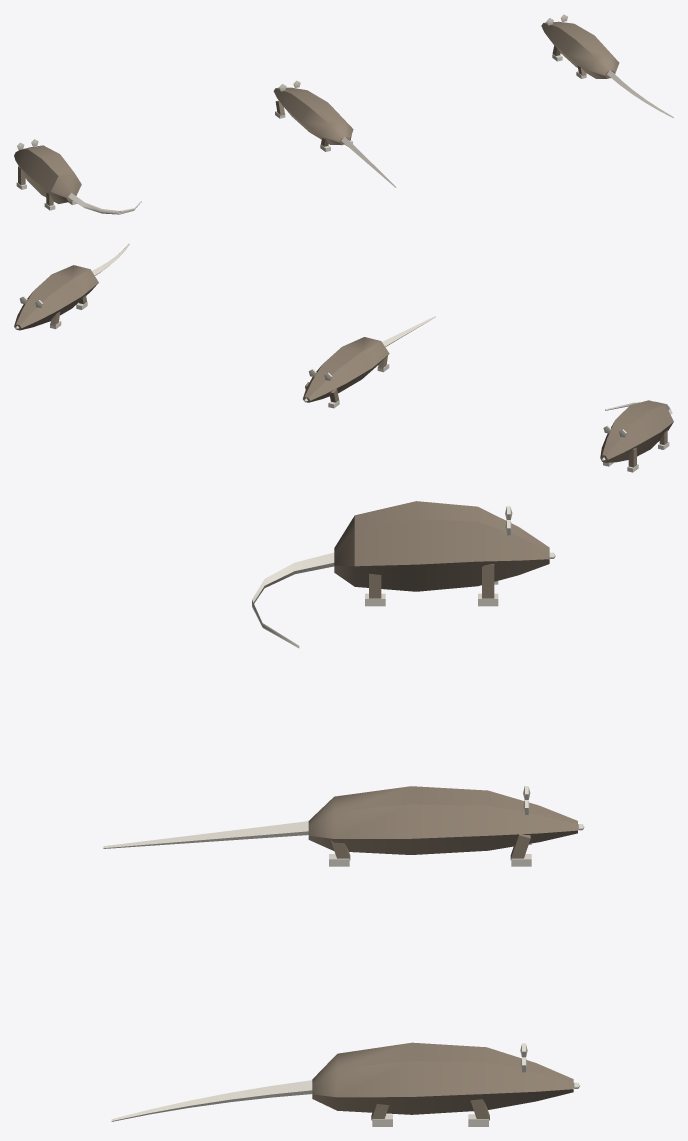
The model's file is rat.glb.
3 views of the same model, one above another, from view 1: azimuth 30°, elevation 25°; view 2: azimuth 150°, elevation 25°; view 3: azimuth 270°, elevation 25° (orthographic). The views are drawn at different scales.
Parts seen in each view (by area): view 1: sit, run_a, run_b; view 2: run_a, sit, run_b; view 3: sit, run_b, run_a.
Boxes of the visible parts, x1=… form: sit: x1=14, y1=139, x2=141, y2=214; run_a: x1=273, y1=80, x2=396, y2=187; run_b: x1=541, y1=14, x2=673, y2=117; run_a: x1=303, y1=316, x2=435, y2=408; sit: x1=600, y1=400, x2=673, y2=472; run_b: x1=14, y1=243, x2=129, y2=330; sit: x1=252, y1=501, x2=555, y2=648; run_b: x1=111, y1=1042, x2=580, y2=1126; run_a: x1=103, y1=786, x2=584, y2=866.
Size of the model in its own units: 1.28 by 0.089 by 0.469.
